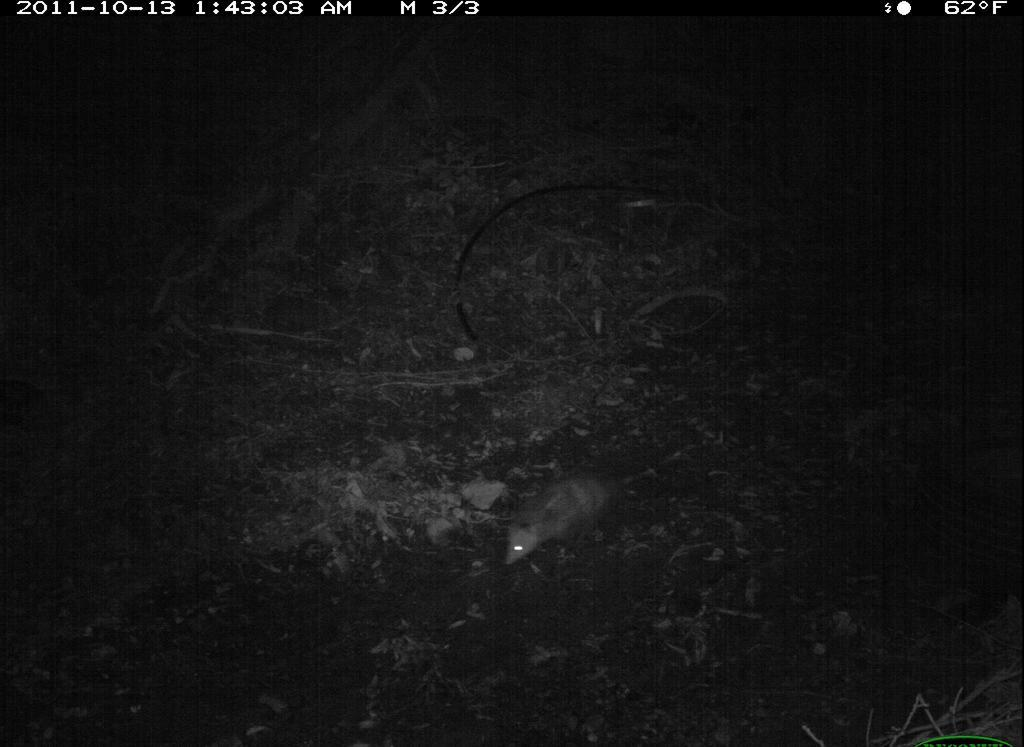opossum: (493, 452, 651, 575)
